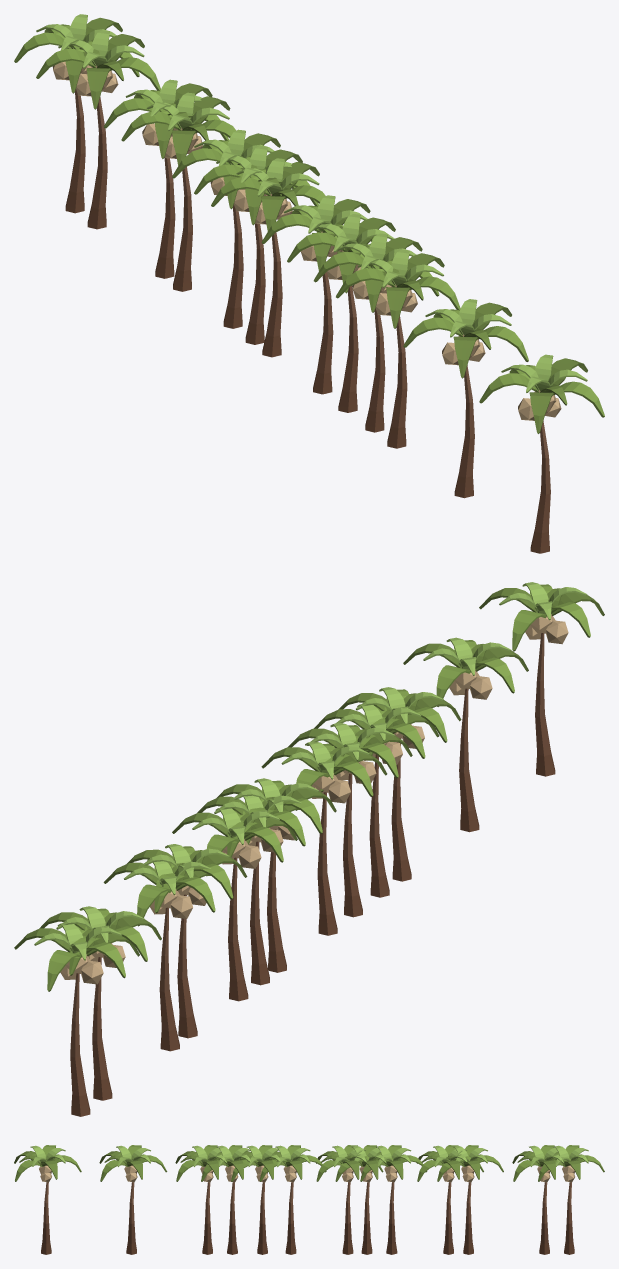
3 renders of one model, top to bottom at view 1: azimuth 30°, elevation 25°; view 2: azimuth 150°, elevation 25°; view 3: azimuth 270°, elevation 25°, orthographic. The views are drawn at different scales.
Visible parts, largest first — view 1: palm_1.085, palm_1.084, palm_1.156, palm_1.162, palm_1.153, palm_1.154, palm_1.161, palm_1.086, palm_1.160, palm_1.159, palm_1.155, palm_1.157 (+1 smaller); view 2: palm_1.084, palm_1.085, palm_1.161, palm_1.159, palm_1.160, palm_1.158, palm_1.162, palm_1.153, palm_1.155, palm_1.086, palm_1.156, palm_1.154 (+1 smaller); view 3: palm_1.084, palm_1.085, palm_1.159, palm_1.154, palm_1.162, palm_1.156, palm_1.153, palm_1.161, palm_1.158, palm_1.160, palm_1.155, palm_1.086 (+1 smaller).
Part boxes in pixels (x1,y1,x2,y2): palm_1.085: (403, 299, 528, 498); palm_1.084: (479, 354, 604, 553); palm_1.156: (336, 249, 460, 448); palm_1.162: (36, 30, 160, 229); palm_1.153: (121, 92, 235, 291); palm_1.154: (211, 158, 325, 357); palm_1.161: (14, 14, 139, 213); palm_1.086: (313, 233, 439, 432); palm_1.160: (104, 79, 228, 278); palm_1.159: (261, 195, 374, 394); palm_1.155: (287, 214, 395, 412); palm_1.157: (194, 146, 318, 344); palm_1.084: (479, 582, 604, 776); palm_1.085: (403, 637, 528, 832); palm_1.161: (14, 923, 139, 1116); palm_1.159: (261, 742, 387, 935); palm_1.160: (103, 858, 215, 1051); palm_1.158: (172, 808, 297, 1001); palm_1.162: (39, 906, 161, 1100); palm_1.153: (127, 844, 247, 1038); palm_1.155: (288, 723, 412, 917); palm_1.086: (314, 704, 439, 897); palm_1.156: (338, 687, 461, 881); palm_1.154: (217, 778, 336, 972); palm_1.084: (14, 1145, 81, 1254); palm_1.085: (99, 1145, 167, 1254); palm_1.159: (259, 1145, 326, 1254); palm_1.154: (316, 1145, 383, 1254); palm_1.162: (512, 1145, 570, 1254); palm_1.156: (175, 1145, 233, 1254); palm_1.153: (417, 1145, 483, 1254); palm_1.161: (538, 1145, 604, 1254); palm_1.158: (360, 1145, 427, 1254); palm_1.160: (437, 1145, 503, 1254); palm_1.155: (231, 1145, 287, 1254); palm_1.086: (201, 1145, 258, 1254).
Size of the model in its own units: 3.9 by 6.08 by 32.2.
Materials: 13 (13 with a texture image).
